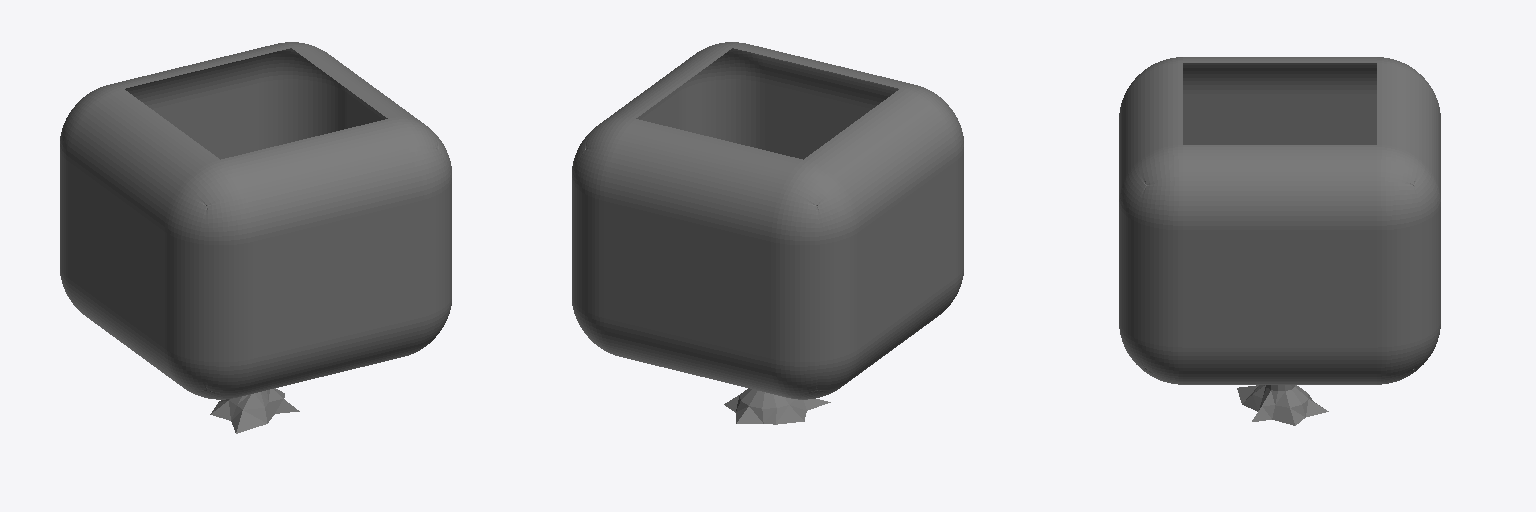
Rendered from BushWallHighPolyNew.obj.
3 renders of one model, left to right at view 1: azimuth 30°, elevation 25°; view 2: azimuth 150°, elevation 25°; view 3: azimuth 270°, elevation 25°, orthographic.
Parts seen in each view (by area): view 1: polySurface2; view 2: polySurface2; view 3: polySurface2.
Part boxes in pixels (x1,y1,x2,y2): polySurface2: (60,42,451,433); polySurface2: (572,42,963,424); polySurface2: (1119,57,1440,425).
Bounding box in the file's own units: 20.35 × 21.19 × 20.35.